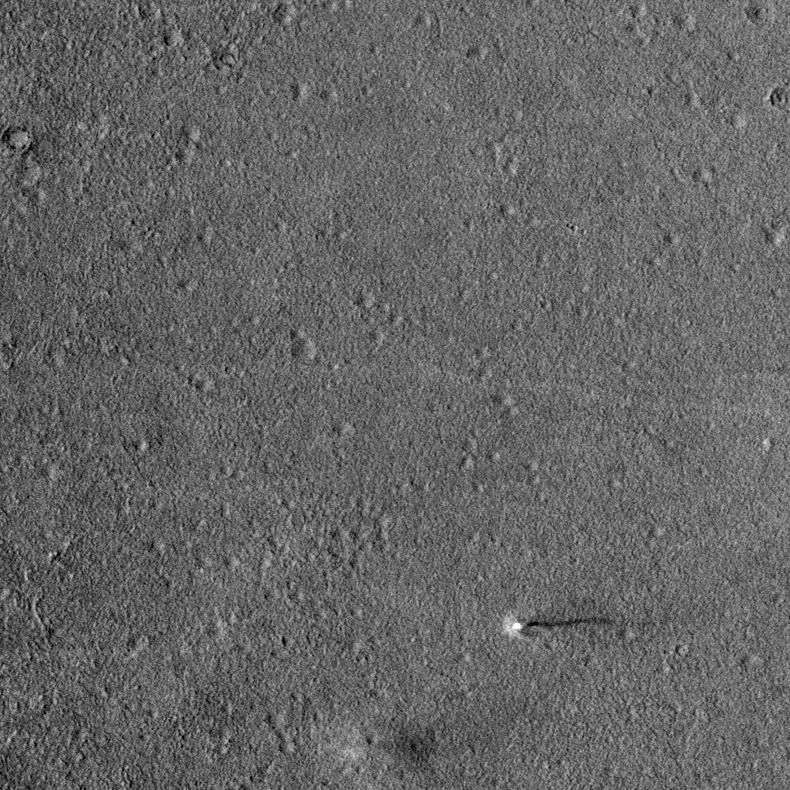dust_devil: (500, 607, 616, 642)
